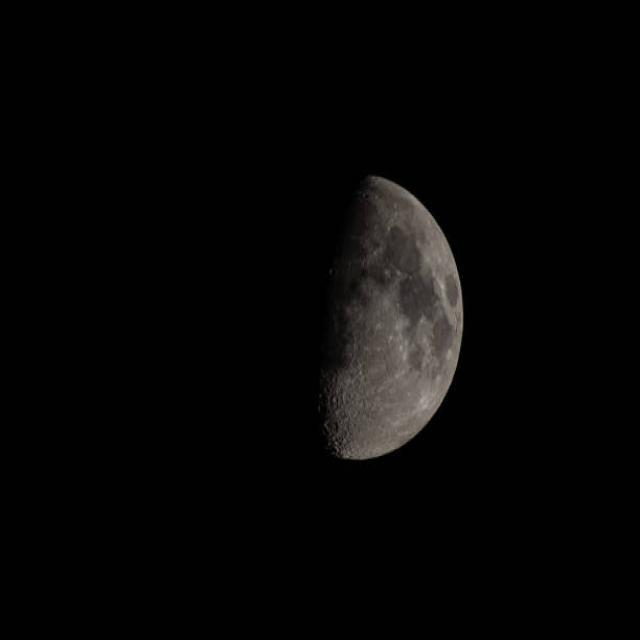moon: (235, 173, 466, 463)
